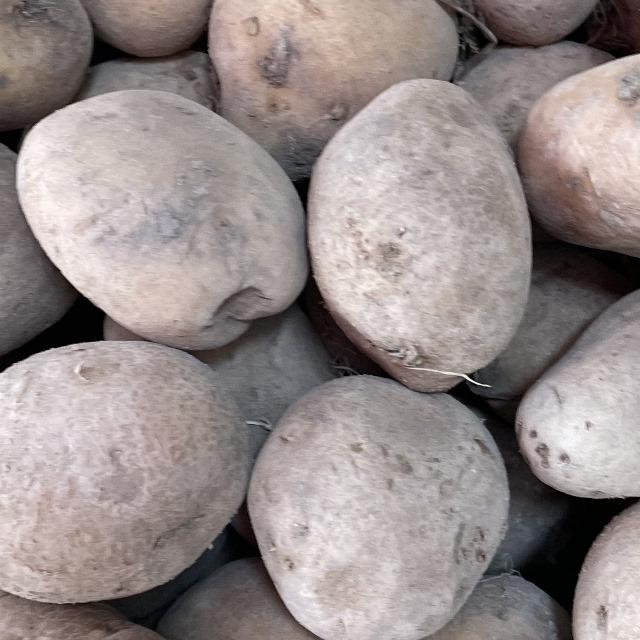potato: (0, 62, 315, 370), (292, 65, 545, 400), (240, 350, 527, 640), (0, 332, 255, 595), (522, 22, 640, 277)
